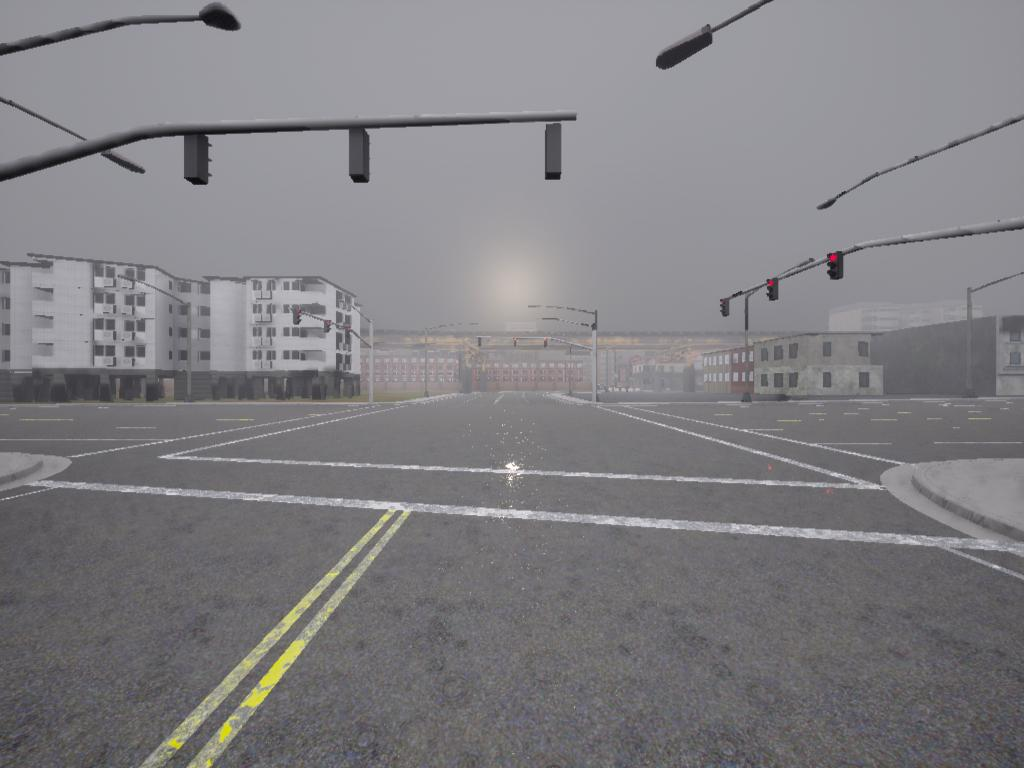traffic_light: (182, 134, 212, 189), (347, 127, 372, 186), (545, 125, 563, 179), (826, 255, 843, 283), (767, 279, 779, 302), (719, 301, 729, 321), (544, 337, 548, 350), (478, 339, 483, 349), (514, 338, 518, 350)
